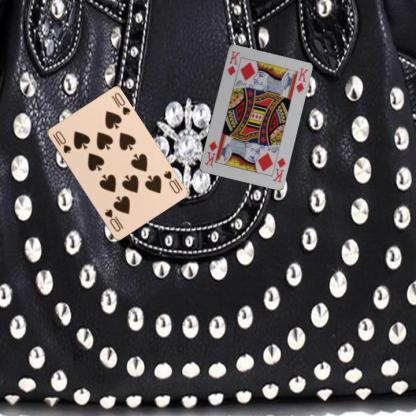10s: (50, 128, 72, 154), (160, 168, 180, 195)
Kd: (270, 155, 286, 184), (225, 48, 241, 76)
